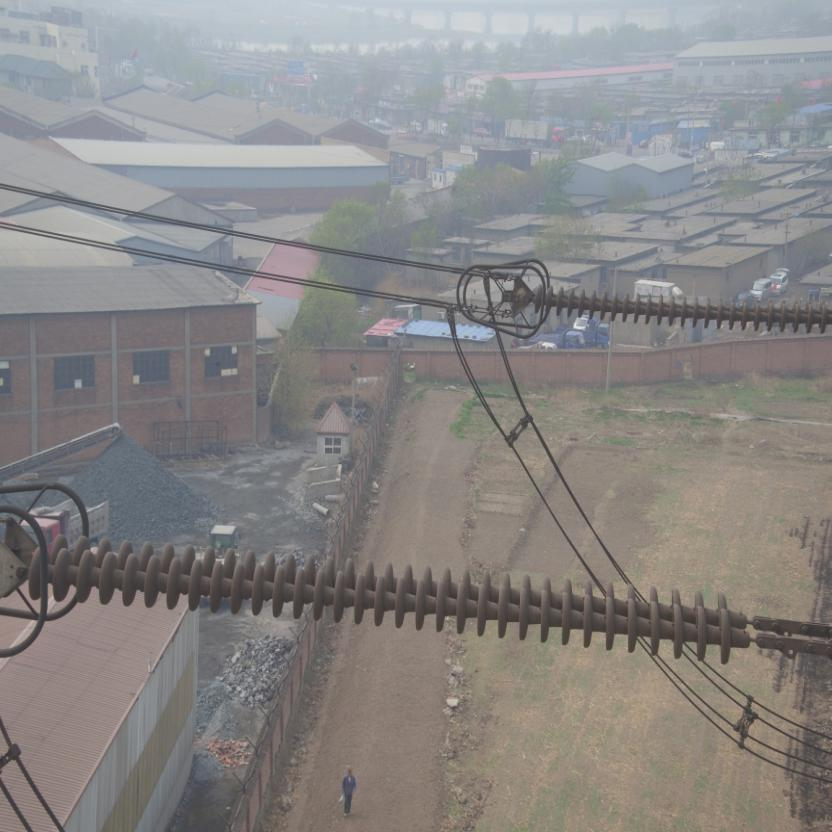insulator: (0, 522, 823, 664), (521, 274, 831, 332)
